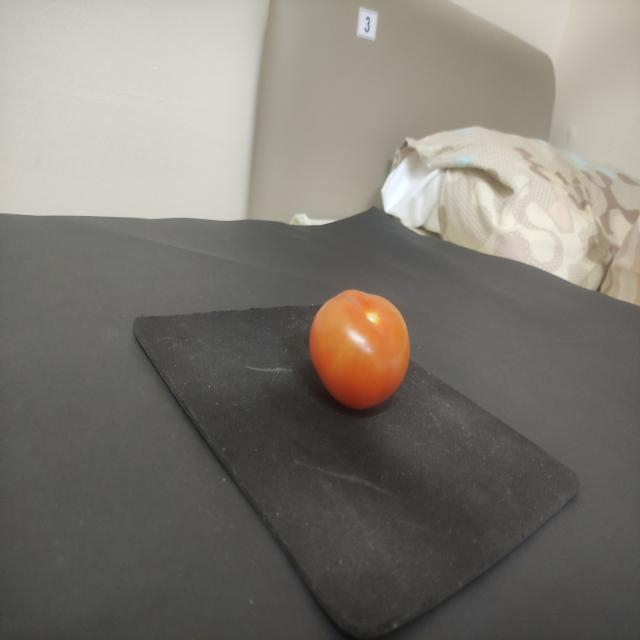sari: (295, 280, 418, 422)
